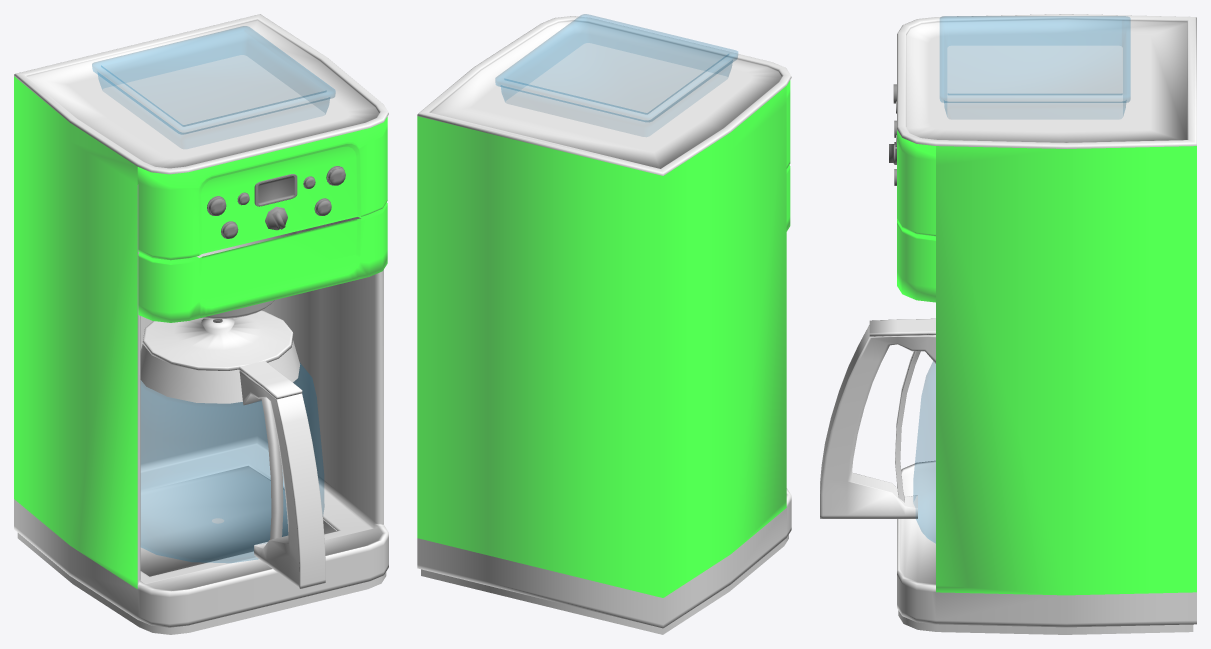
3 views of the same model, side by side, from view 1: azimuth 30°, elevation 25°; view 2: azimuth 150°, elevation 25°; view 3: azimuth 270°, elevation 25° (orthographic). The views are drawn at different scales.
Parts seen in each view (by area): view 1: Cube; view 2: Cube; view 3: Cube.
Part boxes in pixels (x1=…): Cube: x1=14, y1=14, x2=388, y2=634; Cube: x1=417, y1=14, x2=791, y2=634; Cube: x1=820, y1=14, x2=1196, y2=634.
Size of the model in its own units: 0.4041 by 0.7281 by 0.4845.
